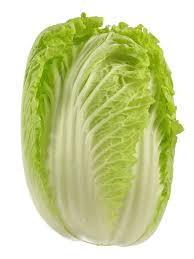cabbage: (15, 14, 175, 242)
